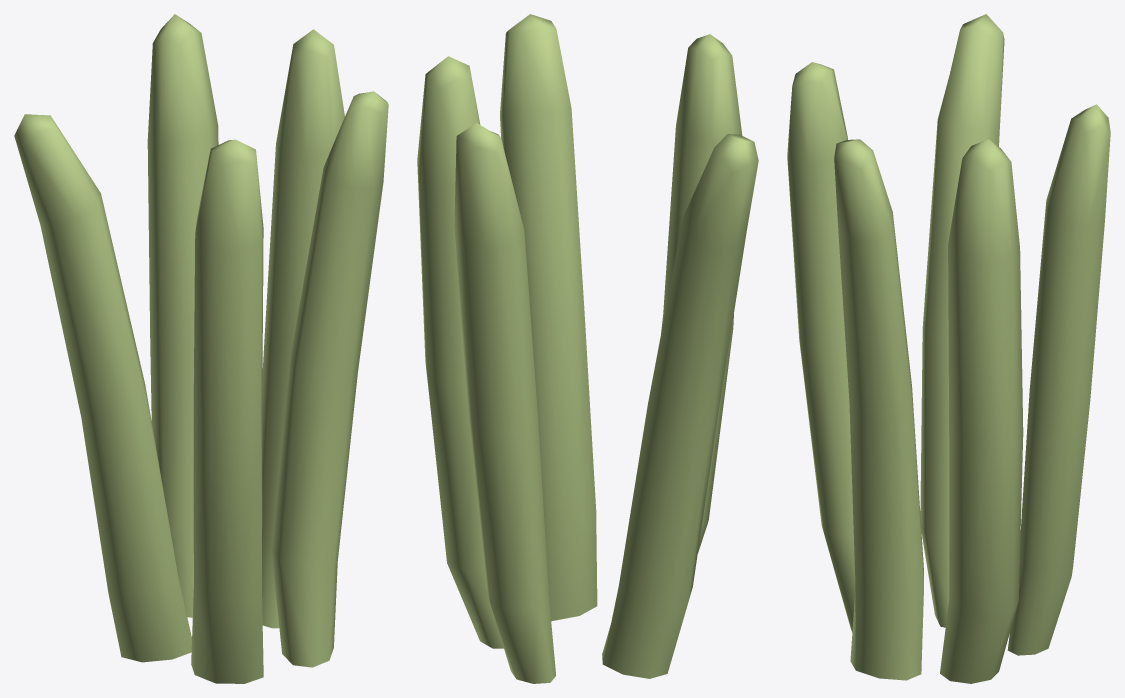
The model's file is Grass_06.fbx.
3 renders of one model, left to right at view 1: azimuth 30°, elevation 25°; view 2: azimuth 150°, elevation 25°; view 3: azimuth 270°, elevation 25°, orthographic. The views are drawn at different scales.
Parts seen in each view (by area): view 1: polySurface765; view 2: polySurface765; view 3: polySurface765.
Boxes of the visible parts, x1,y1,x2,y2 form: polySurface765: (14,14,388,683); polySurface765: (417,14,758,683); polySurface765: (787,14,1110,683).
Bounding box in the file's own units: 33.11 × 54.73 × 28.85.
